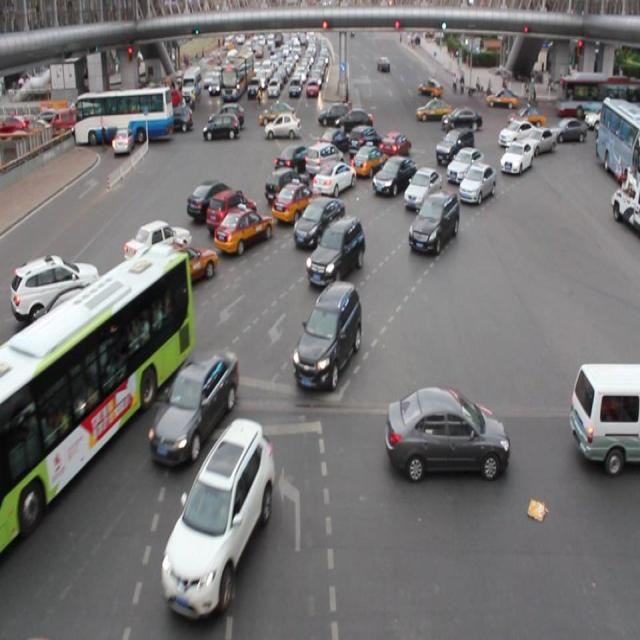car: (162, 417, 273, 613), (386, 385, 508, 480), (149, 350, 238, 462), (292, 280, 362, 390), (33, 282, 125, 350), (13, 252, 100, 319), (137, 238, 215, 293), (306, 216, 364, 284), (124, 220, 190, 272), (409, 191, 458, 253), (213, 202, 271, 254), (293, 196, 345, 251), (205, 188, 257, 234), (271, 179, 321, 222), (188, 179, 238, 220), (371, 154, 415, 198), (312, 158, 356, 198), (403, 166, 441, 212), (458, 163, 496, 206), (264, 167, 308, 204), (349, 141, 389, 179), (435, 127, 474, 165), (446, 147, 483, 186), (274, 143, 314, 173), (346, 126, 381, 160), (499, 140, 532, 175), (516, 127, 554, 156), (497, 119, 534, 148), (378, 130, 410, 162), (318, 125, 350, 156)
truck: (569, 361, 640, 466), (304, 141, 344, 179)
van: (1, 251, 190, 548)
